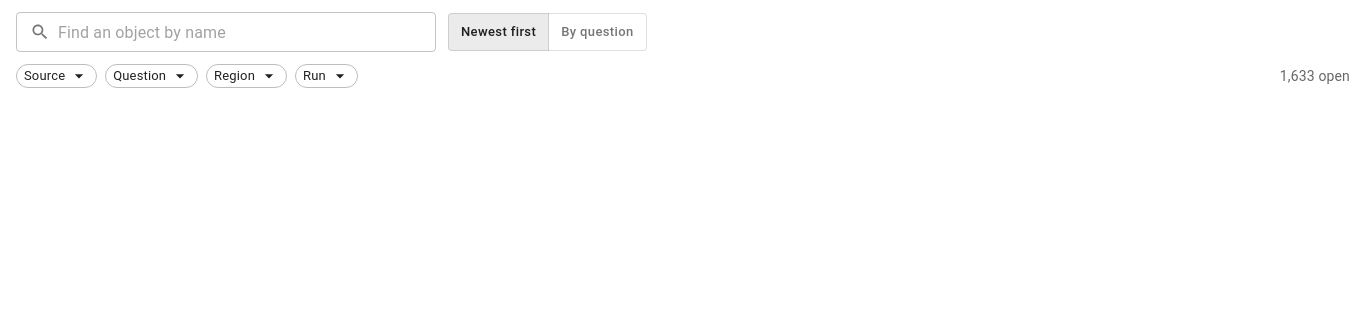
Test: ReviewToolbar › names the world view only where a root name repeats
Click the button "Region": point(247, 76) [206,64,287,88]
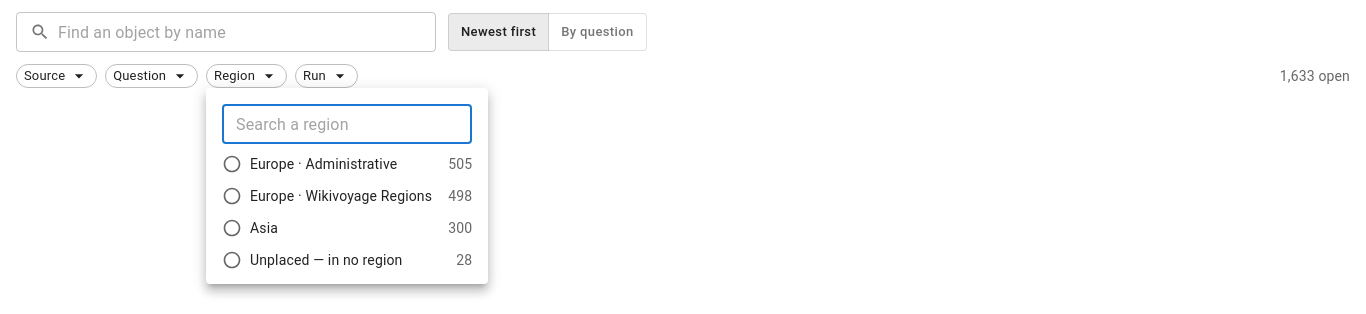
Now the menu item "Europe · Administrative 505" is shown, box [206,148,488,180]
Now the menu item "Europe · Wikivoyage Regions 498" is shown, box [206,180,488,212]
Now the menu item "Asia 300" is shown, box [206,212,488,244]
